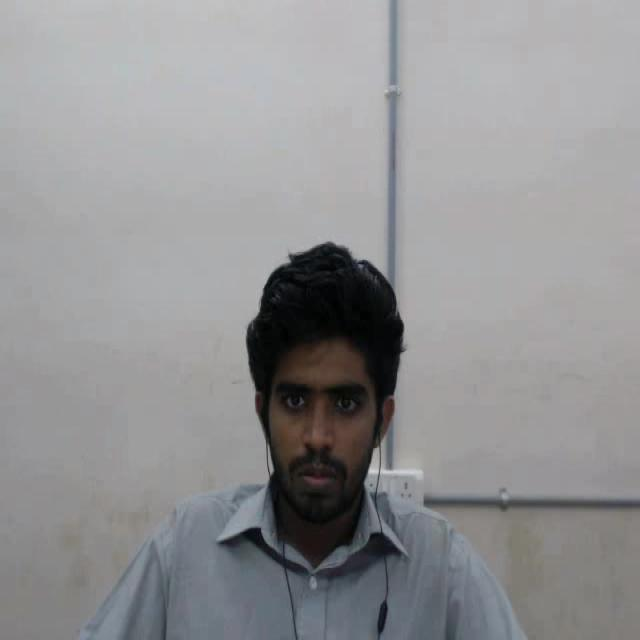Engaged: (218, 201, 434, 578)
